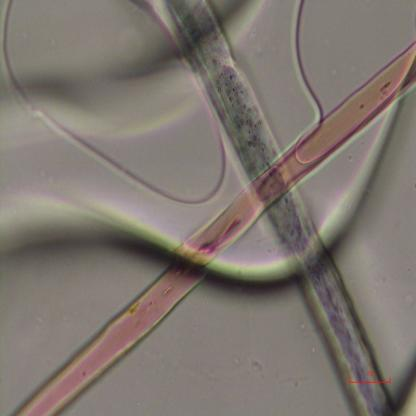Background material: (0, 60, 211, 247), (252, 2, 398, 113), (298, 122, 406, 245), (213, 235, 300, 311)
Microfibre: (11, 42, 416, 414), (161, 0, 396, 414)
